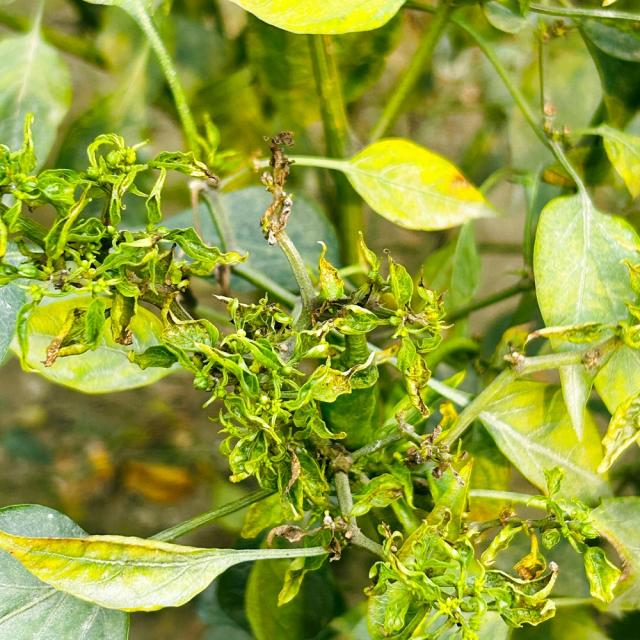Chilli_Leaf_Curl: (1, 0, 638, 638), (0, 113, 247, 394), (0, 502, 336, 614), (509, 187, 639, 472), (284, 135, 499, 232), (11, 288, 185, 394), (228, 0, 406, 35), (258, 129, 296, 246)
